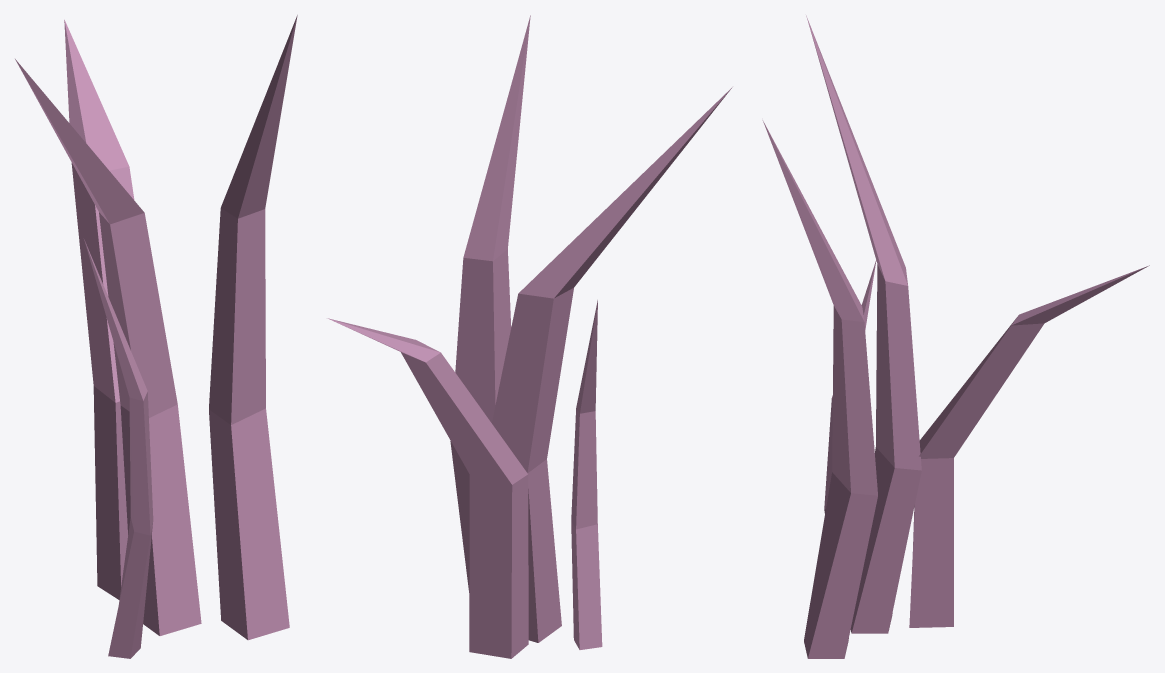
Rendered from 01_02Grass_Purple.fbx.
3 renders of one model, left to right at view 1: azimuth 30°, elevation 25°; view 2: azimuth 150°, elevation 25°; view 3: azimuth 270°, elevation 25°, orthographic. The views are drawn at different scales.
Parts seen in each view (by area): view 1: Icosphere.063; view 2: Icosphere.063; view 3: Icosphere.063.
Boxes of the visible parts, left/top/right/bottom form: Icosphere.063: left=15, top=15, right=297, bottom=658; Icosphere.063: left=327, top=15, right=732, bottom=658; Icosphere.063: left=762, top=15, right=1149, bottom=658.
Size of the model in its own units: 30.47 by 67.63 by 44.07.
